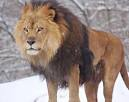lion: (14, 2, 126, 102)
